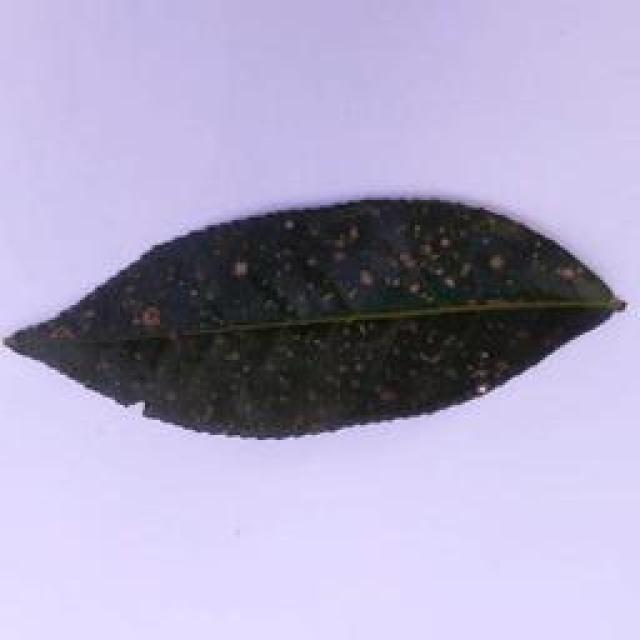Algal Leaf Spot: (2, 200, 640, 448)
